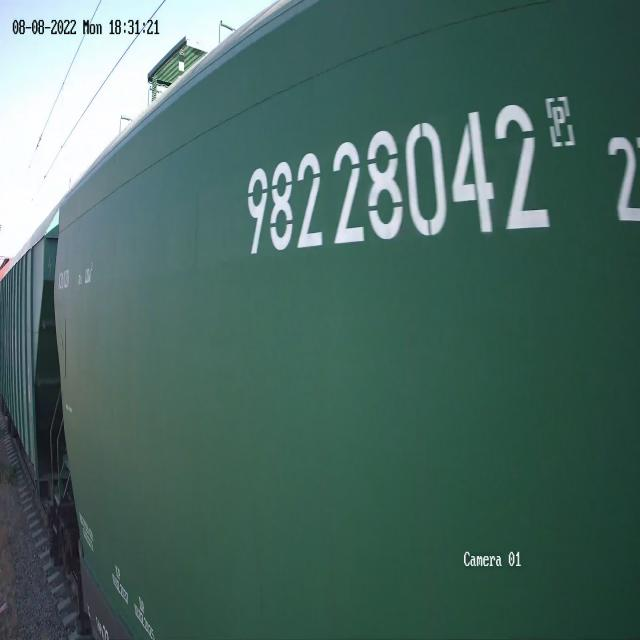hopper: (47, 0, 640, 640), (0, 194, 62, 520)
